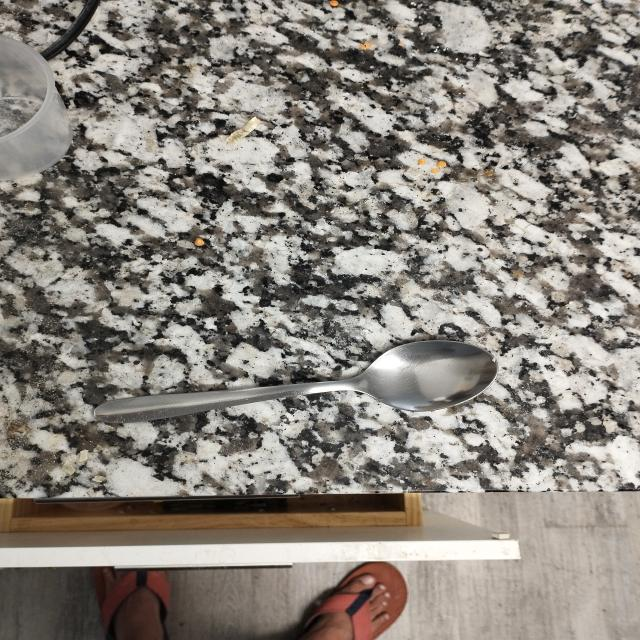Spoon: (89, 323, 507, 432)
